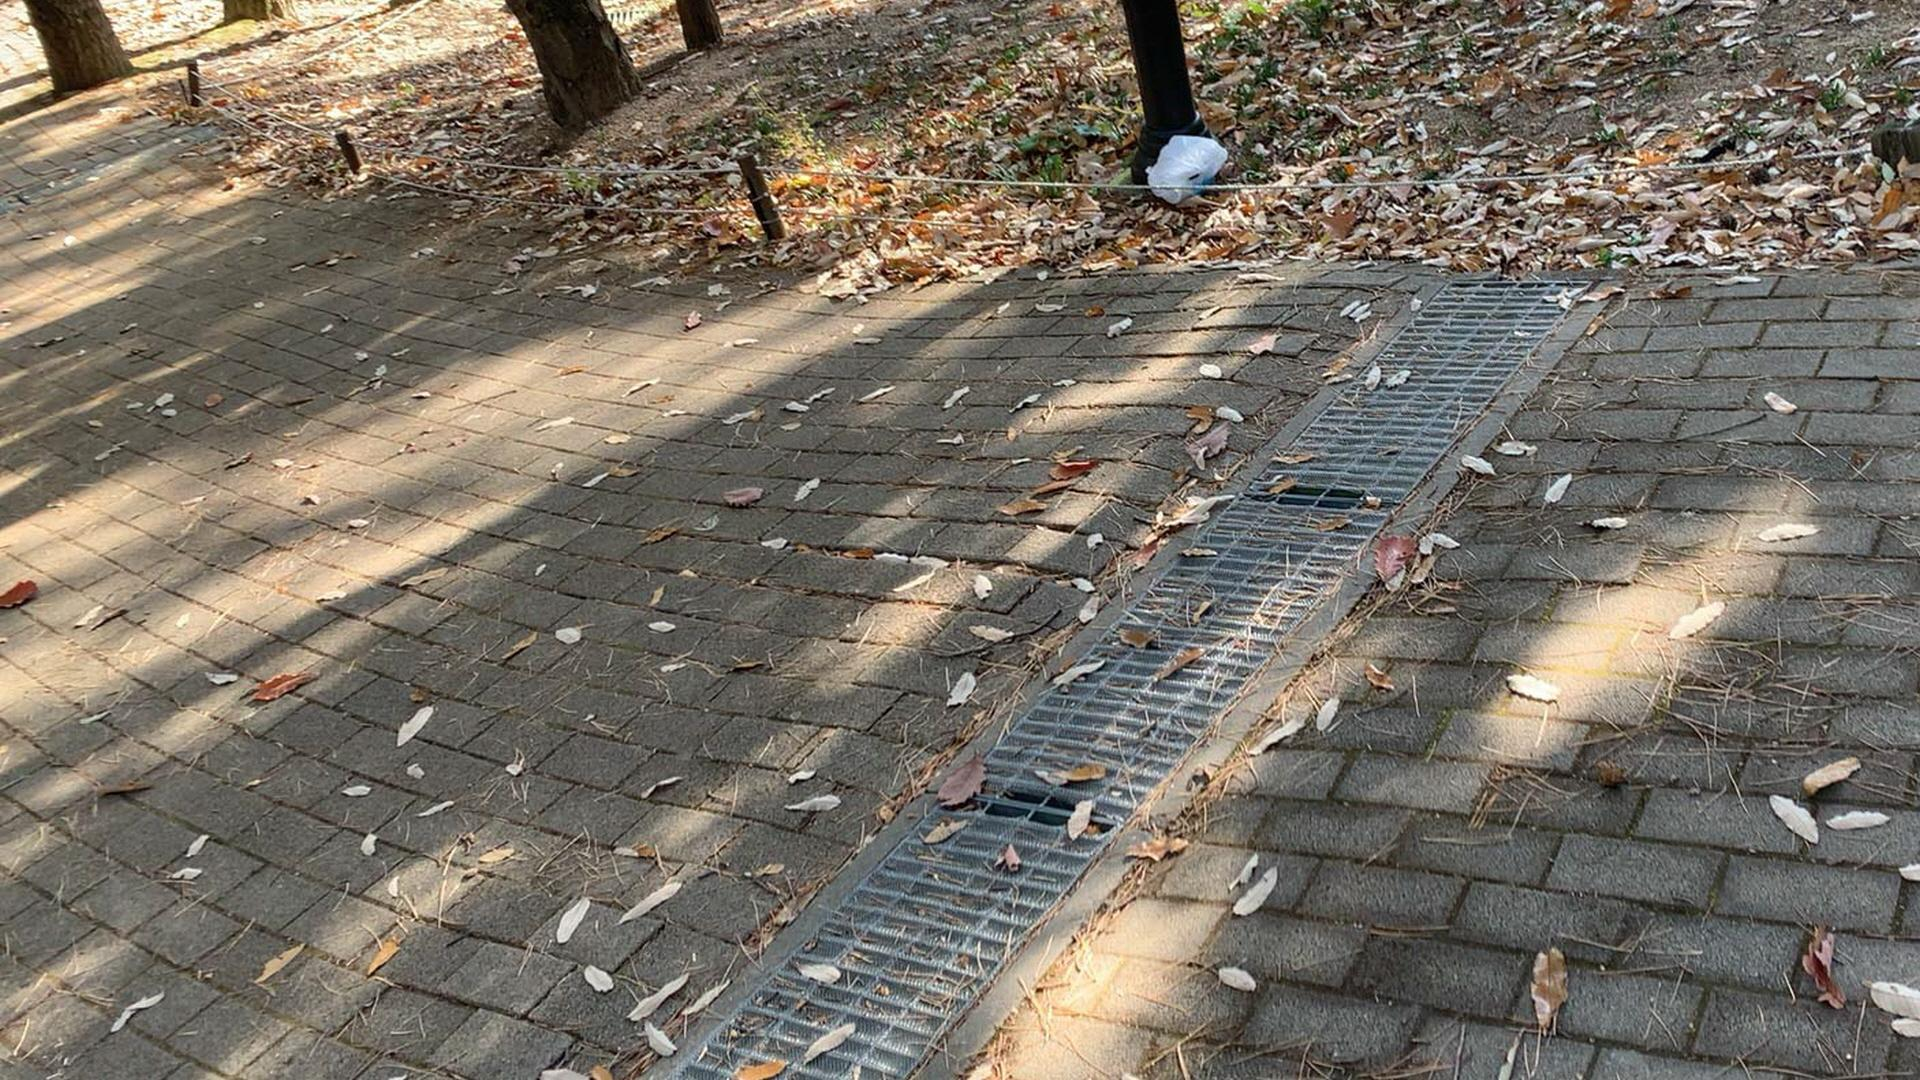white_bag: (1139, 131, 1230, 204)
